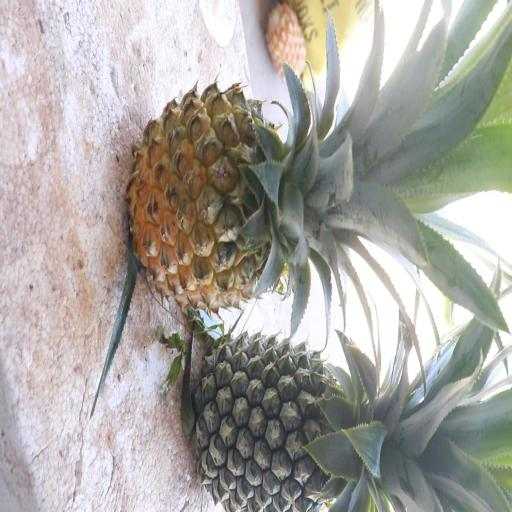Pineapple - v8 v1: (125, 83, 381, 315)
